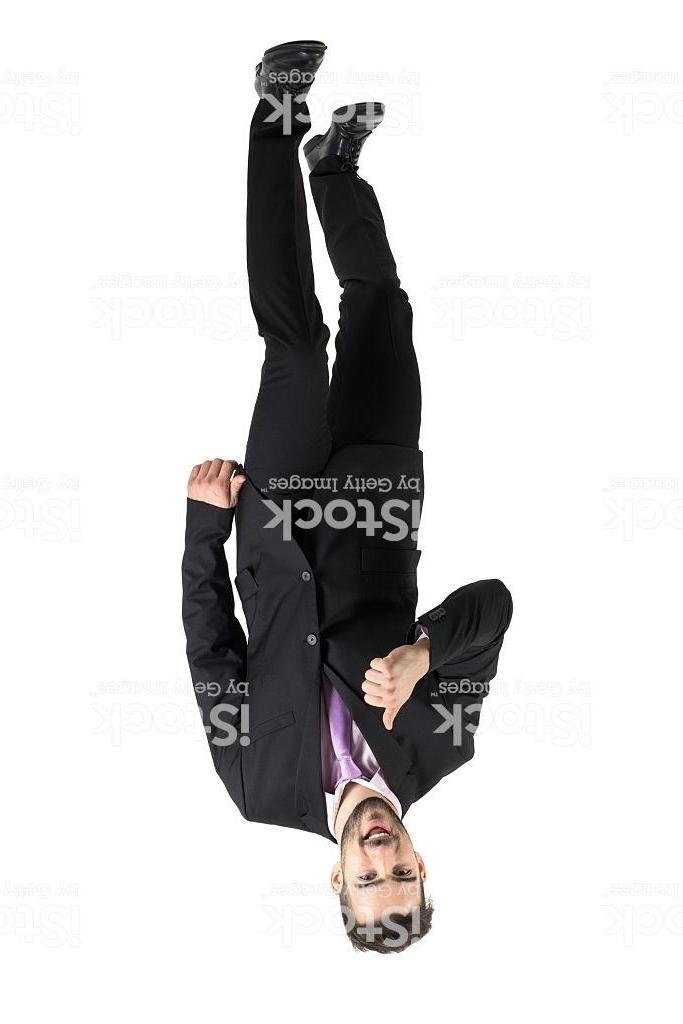thumbsdown: (360, 647, 419, 732)
